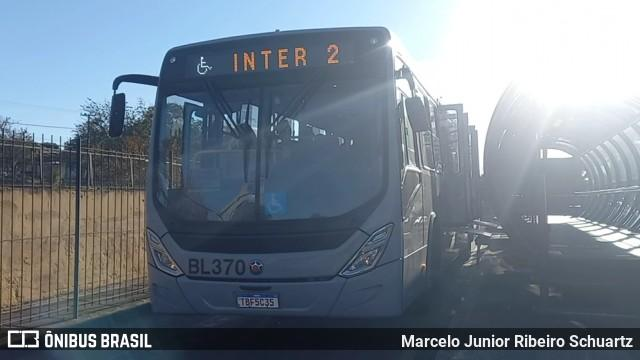INTER2: (224, 38, 348, 76)
